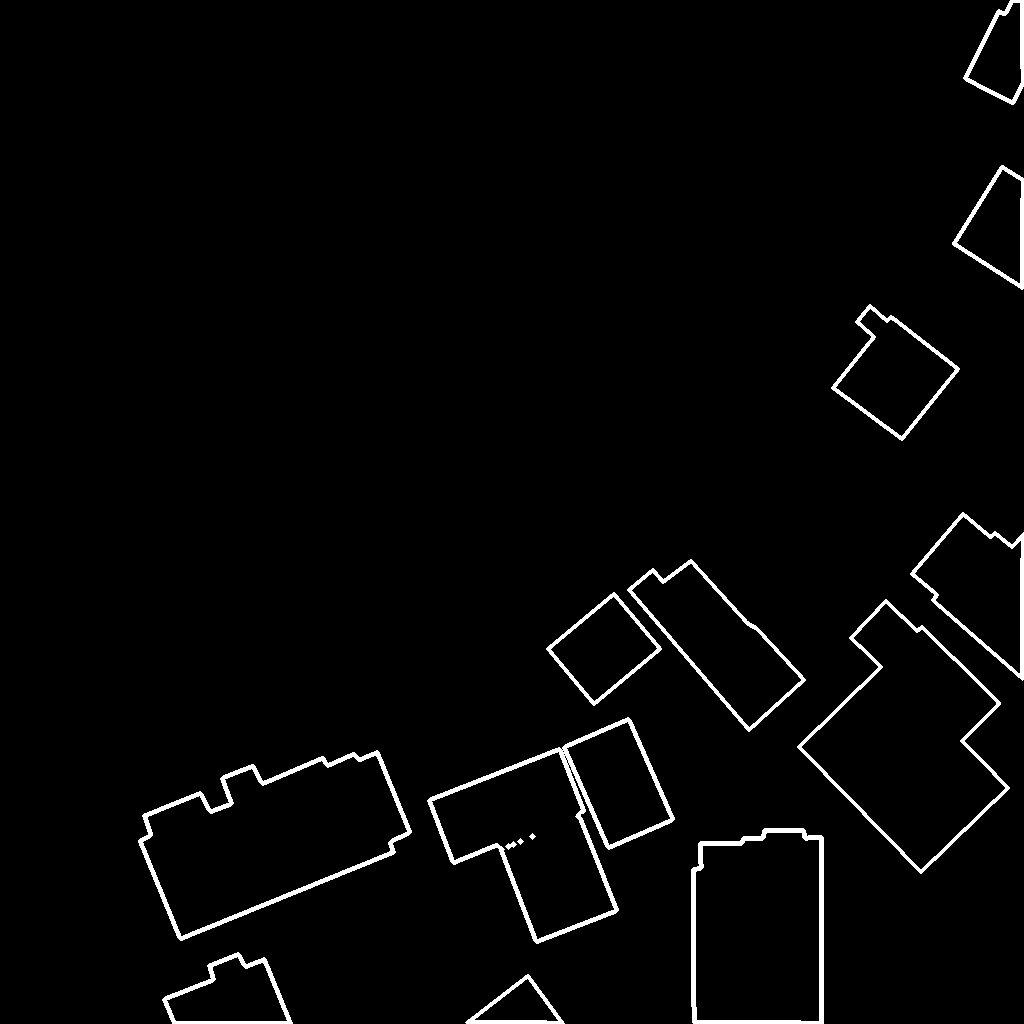building: (799, 601, 1009, 873), (140, 752, 411, 940), (629, 561, 805, 731), (693, 830, 823, 1024), (912, 514, 1024, 680), (429, 749, 585, 864), (833, 306, 959, 440), (501, 817, 618, 943), (564, 719, 674, 849), (548, 594, 661, 705), (164, 954, 292, 1024), (954, 167, 1024, 289), (965, 0, 1024, 104), (467, 976, 564, 1024)
